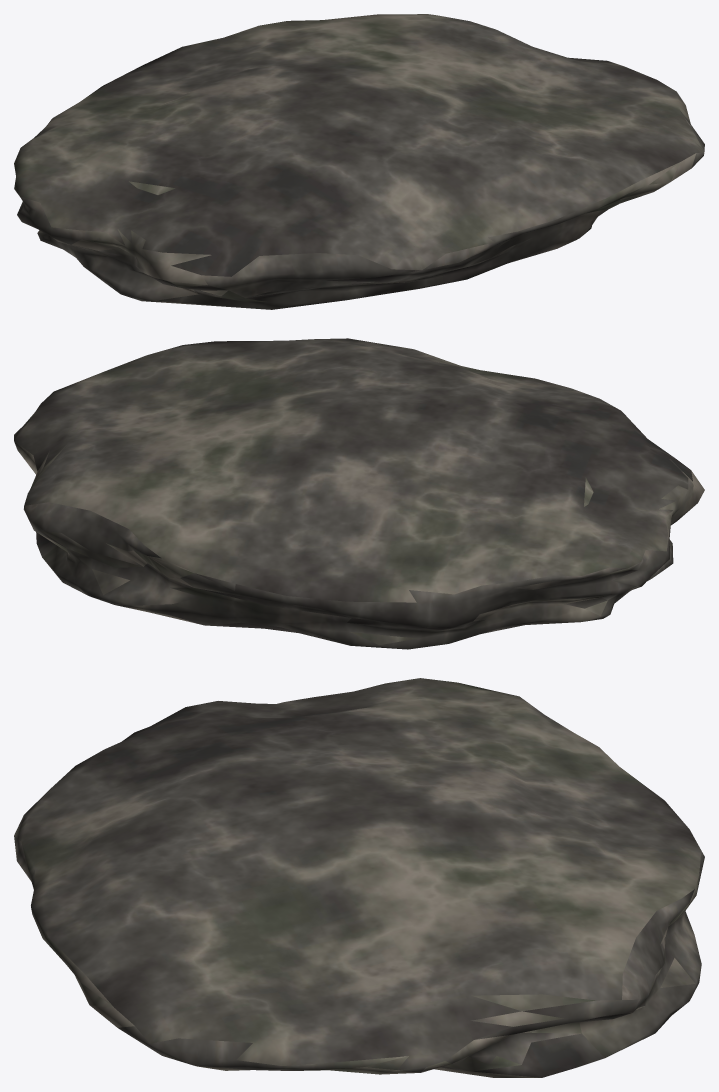
The model's file is rock_flat_01.glb.
3 renders of one model, top to bottom at view 1: azimuth 30°, elevation 25°; view 2: azimuth 150°, elevation 25°; view 3: azimuth 270°, elevation 25°, orthographic. The views are drawn at different scales.
Visible parts, largest first — view 1: rock_flat_01; view 2: rock_flat_01; view 3: rock_flat_01.
Boxes of the visible parts, bbox=[...] form: rock_flat_01: bbox=[14, 14, 704, 309]; rock_flat_01: bbox=[14, 338, 704, 649]; rock_flat_01: bbox=[14, 678, 704, 1077].
Size of what is drawn, in the model's own units: 2.3 by 0.3978 by 1.82.
Materials: 1 (1 with a texture image).
